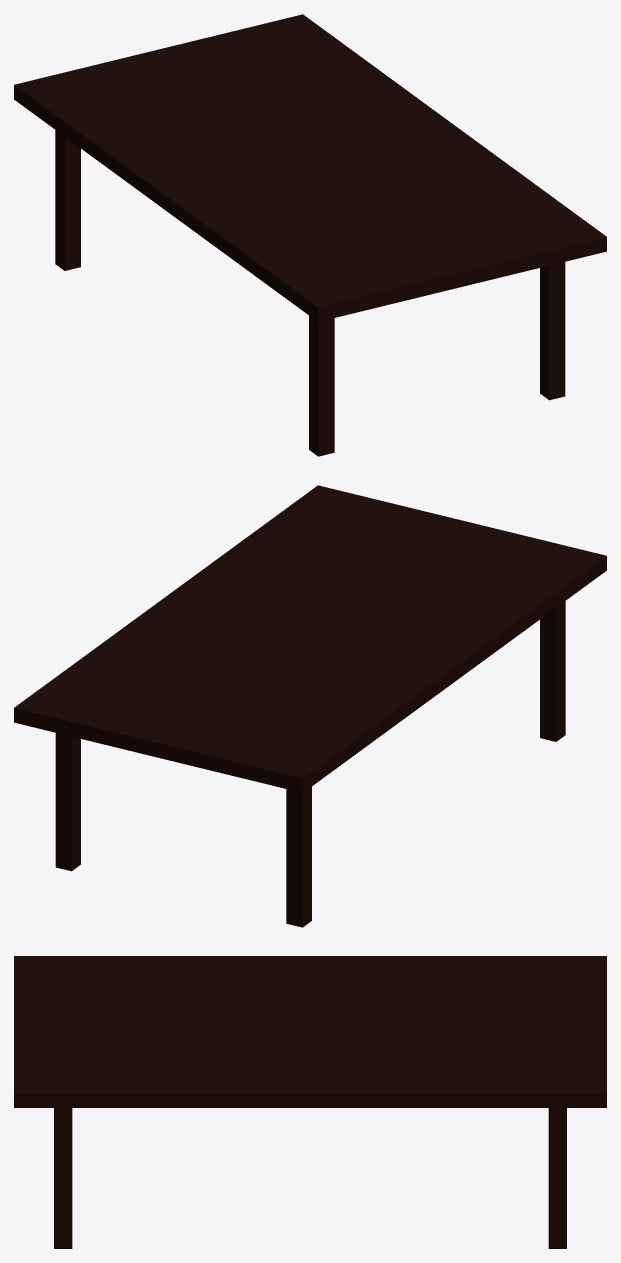
The model's file is Table.dae.
3 renders of one model, top to bottom at view 1: azimuth 30°, elevation 25°; view 2: azimuth 150°, elevation 25°; view 3: azimuth 270°, elevation 25°, orthographic. The views are drawn at different scales.
Visible parts, largest first — view 1: pCube6; view 2: pCube6; view 3: pCube6.
Boxes of the visible parts, x1,y1,x2,y2 form: pCube6: [14, 14, 606, 456]; pCube6: [14, 485, 606, 927]; pCube6: [14, 956, 606, 1248].
Bounding box in the file's own units: 37.93 × 21.26 × 69.13.
